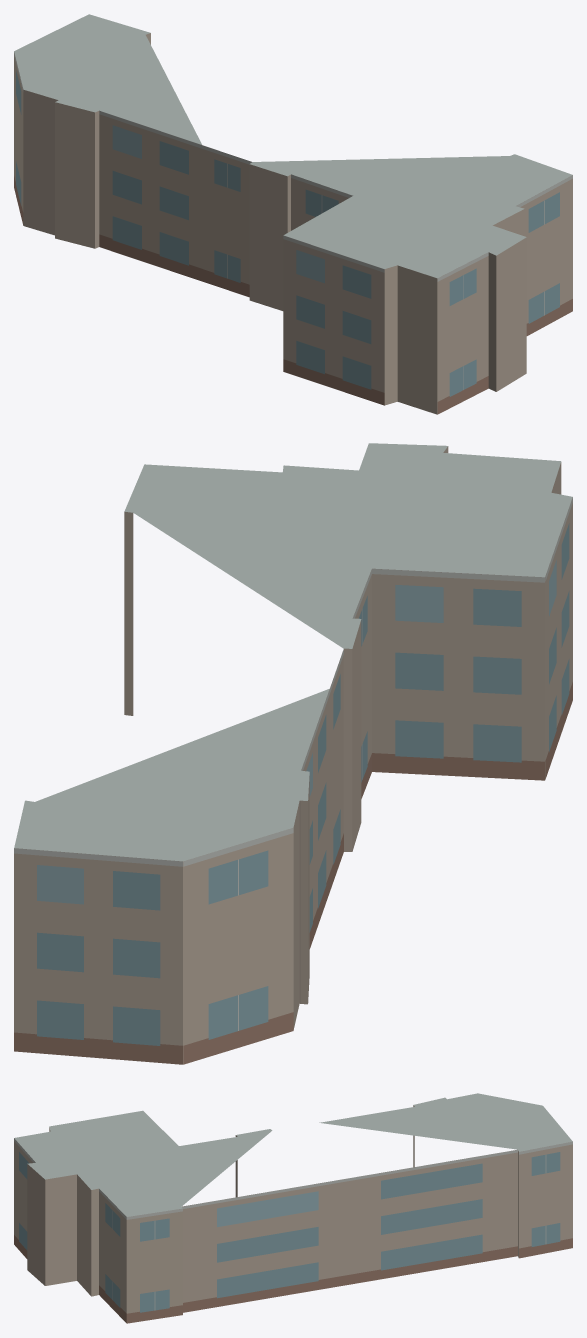
The model's file is survey-upis-32526790.glb.
3 renders of one model, top to bottom at view 1: azimuth 30°, elevation 25°; view 2: azimuth 150°, elevation 25°; view 3: azimuth 270°, elevation 25°, orthographic. The views are drawn at different scales.
Parts seen in each view (by area): view 1: survey-upis-32526790.tmp; view 2: survey-upis-32526790.tmp; view 3: survey-upis-32526790.tmp.
Boxes of the visible parts, <box> form: survey-upis-32526790.tmp: <box>14,14,572,414</box>; survey-upis-32526790.tmp: <box>14,443,572,1064</box>; survey-upis-32526790.tmp: <box>14,1093,572,1323</box>.
Size of the model in its own units: 22.81 by 9.15 by 43.52.
